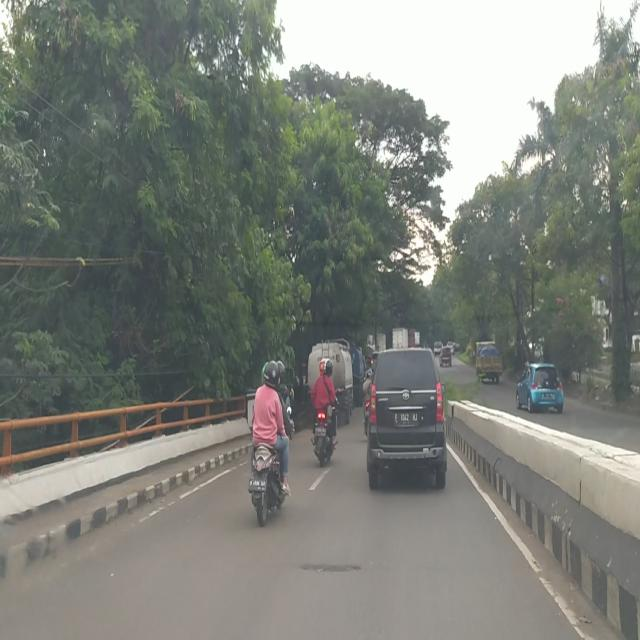Sewer Cover: (298, 563, 362, 577)
